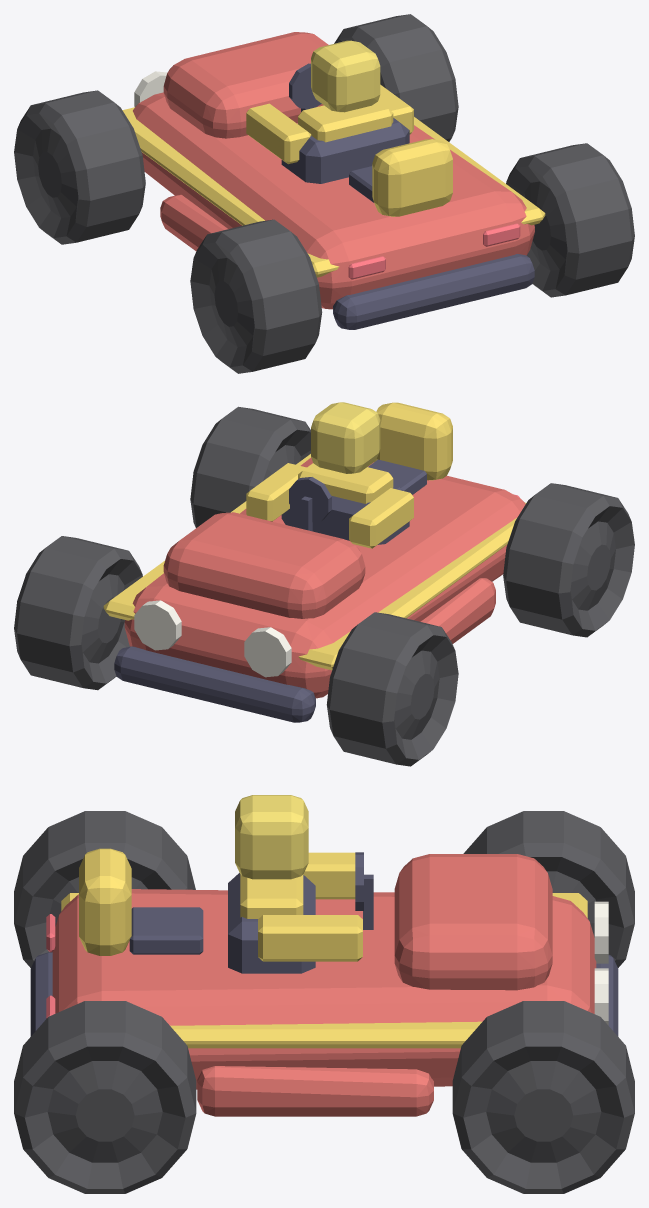
The model's file is Kart_Bubble.fbx.
The picture shows the model from 3 angles, top to bottom: view 1: azimuth 30°, elevation 25°; view 2: azimuth 150°, elevation 25°; view 3: azimuth 270°, elevation 25°; orthographic projection. The views are drawn at different scales.
Parts seen in each view (by area): view 1: Body, WheelRL, WheelFL, WheelRR, Trim, Accent, WheelFR, Driver, Head, Taillights, Headlights, WeaponMount; view 2: Body, WheelFL, WheelRL, WheelFR, Trim, Accent, WheelRR, Driver, Head, Headlights, WeaponMount; view 3: Body, WheelFR, WheelRR, Accent, WheelRL, WheelFL, Driver, Trim, Head, WeaponMount, Headlights.
Boxes of the visible parts, x1,y1,x2,y2 form: Body: (133, 32, 534, 309); WheelRL: (190, 219, 322, 373); WheelFL: (14, 90, 145, 244); WheelRR: (506, 143, 634, 297); Trim: (281, 63, 534, 329); Accent: (122, 107, 545, 277); WheelFR: (334, 14, 458, 141); Driver: (246, 84, 413, 164); Head: (311, 40, 380, 112); Taillights: (348, 223, 520, 279); Headlights: (134, 71, 167, 106); WeaponMount: (349, 166, 373, 202); Body: (124, 457, 525, 698); WheelFL: (326, 612, 458, 766); WheelRL: (503, 483, 634, 637); WheelFR: (14, 536, 142, 690); Trim: (114, 477, 409, 722); Accent: (103, 402, 526, 670); WheelRR: (190, 406, 310, 527); Driver: (246, 463, 413, 548); Head: (311, 402, 380, 473); Headlights: (134, 600, 291, 677); WeaponMount: (368, 459, 426, 494); Body: (52, 854, 596, 1116); WheelFR: (452, 1001, 634, 1193); WheelRR: (14, 1001, 196, 1193); Accent: (61, 848, 587, 1048); WheelRL: (14, 811, 195, 967); WheelFL: (463, 811, 634, 967); Driver: (240, 852, 362, 961); Trim: (30, 852, 618, 1036); Head: (235, 795, 308, 879); WeaponMount: (129, 907, 203, 954); Headlights: (594, 901, 608, 1025).
Bounding box in the file's own units: 311 × 176 × 354.
